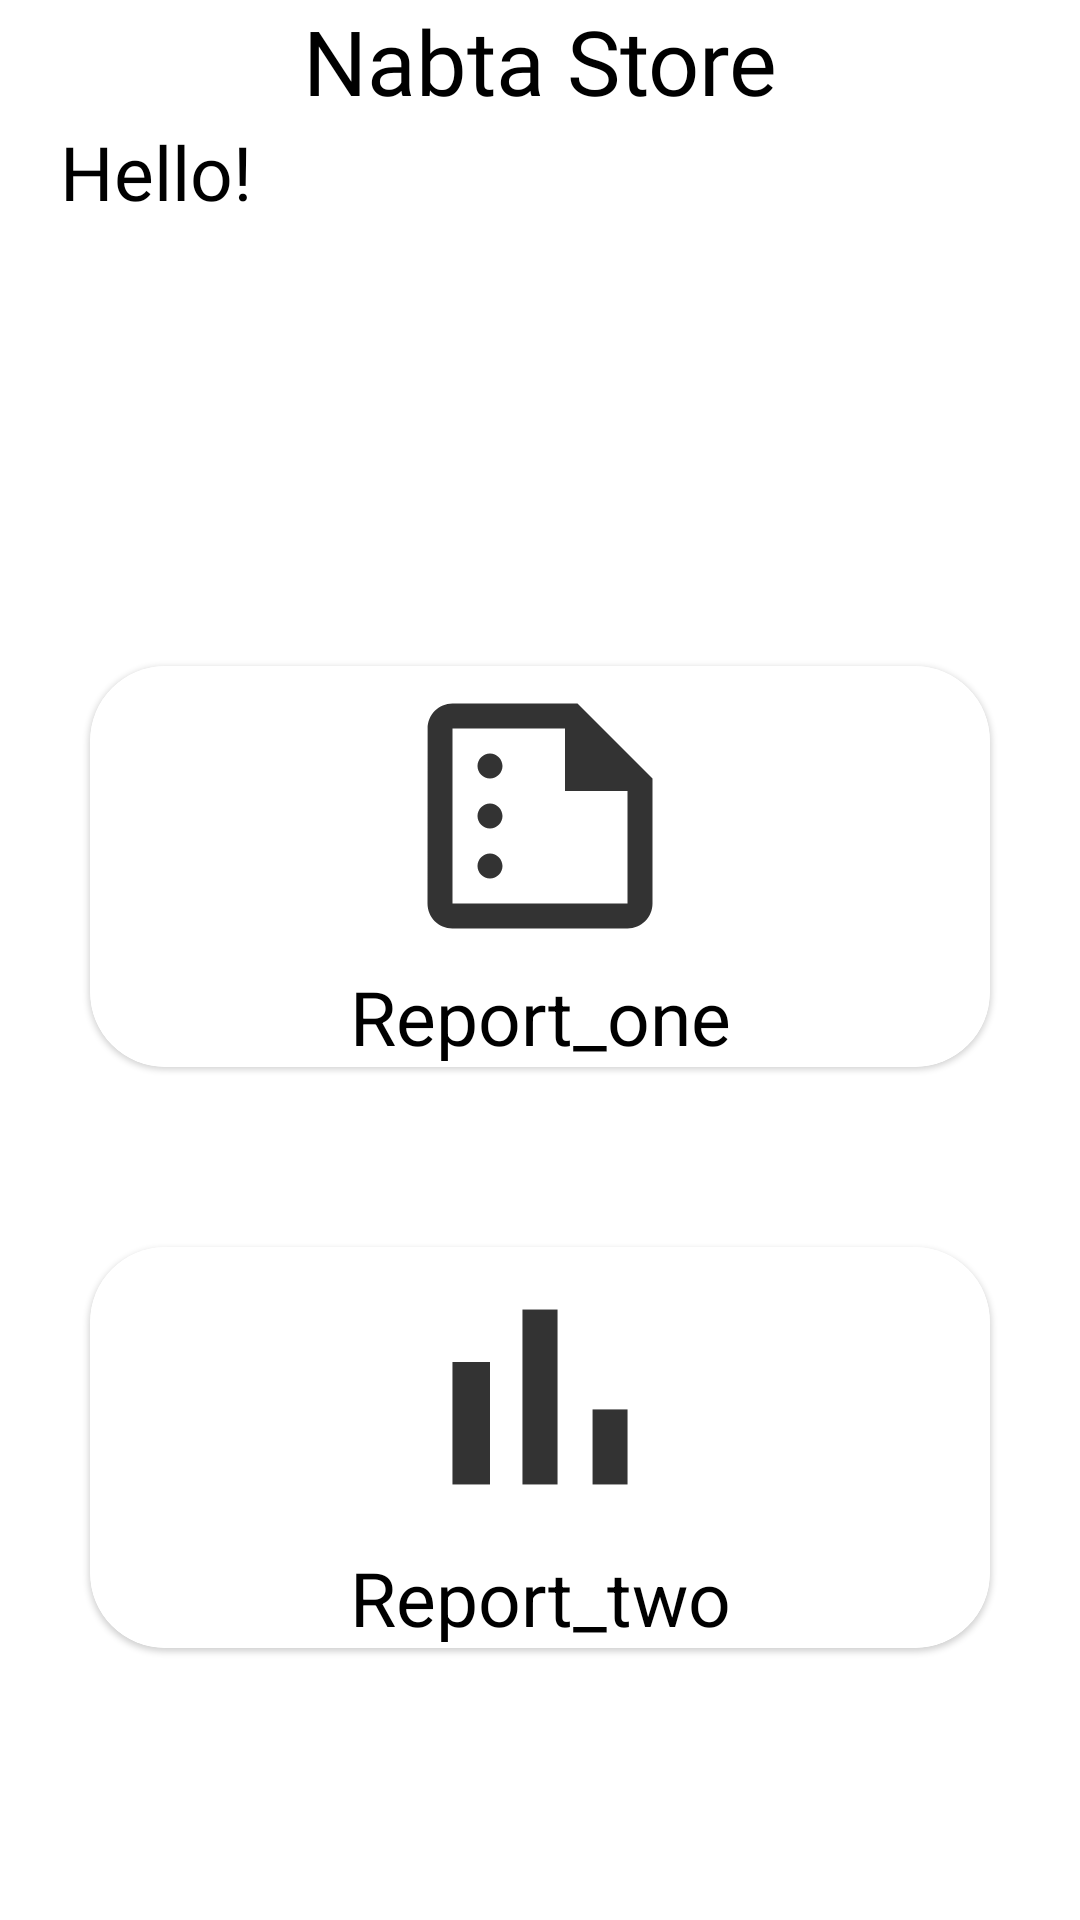

Icons on this 1080w x 1920h Android screen, each with the point to tap as point (x, y):
bar chart: point (540, 1397)
